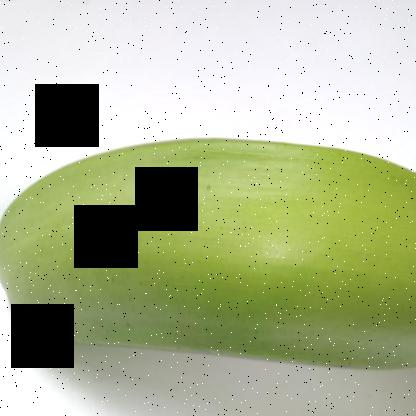freshunripe: (0, 121, 415, 387)
